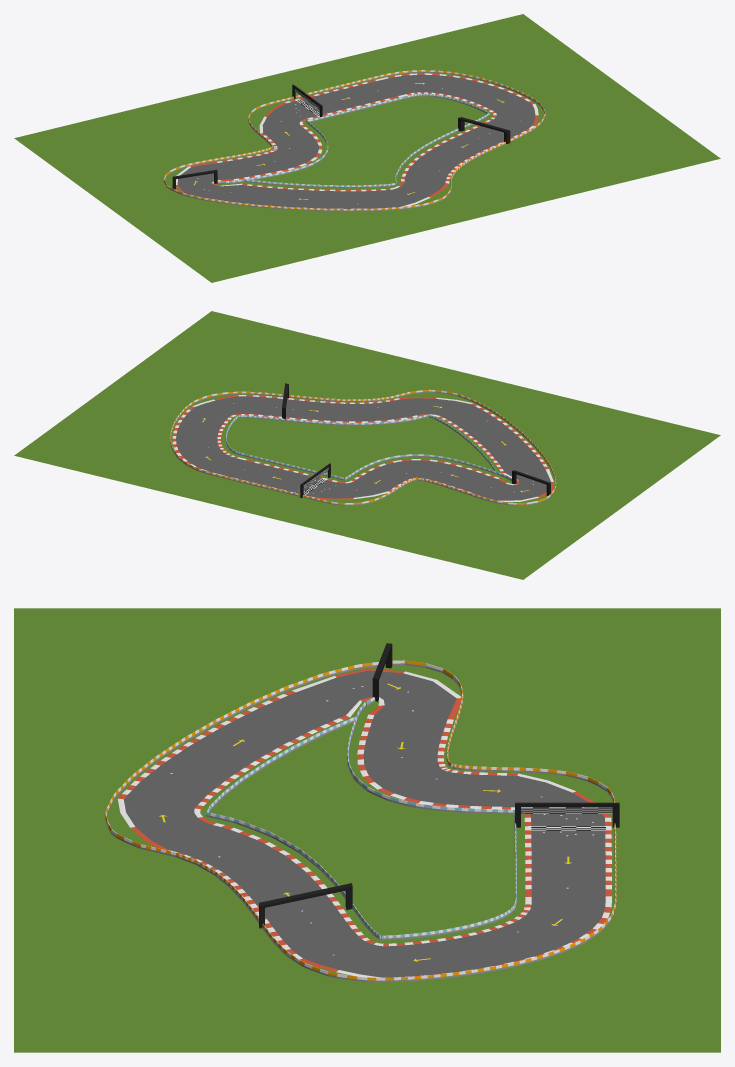
File: basic-track1.glb
3 renders of one model, top to bottom at view 1: azimuth 30°, elevation 25°; view 2: azimuth 150°, elevation 25°; view 3: azimuth 270°, elevation 25°, orthographic. The views are drawn at different scales.
Parts seen in each view (by area): view 1: ground, road, outer-fence, inner-fence; view 2: ground, road, outer-fence, inner-fence; view 3: ground, road, outer-fence, inner-fence, goal, checkpoint1.
Part boxes in pixels (x1,y1,x2,y2): ground: [14, 14, 720, 282]; road: [176, 73, 538, 208]; outer-fence: [163, 70, 545, 211]; inner-fence: [217, 93, 489, 187]; ground: [14, 311, 720, 579]; road: [172, 395, 553, 501]; outer-fence: [170, 389, 556, 505]; inner-fence: [225, 414, 511, 481]; ground: [14, 608, 720, 1052]; road: [118, 668, 611, 977]; outer-fence: [105, 660, 616, 982]; inner-fence: [206, 697, 516, 940]; goal: [515, 802, 619, 827]; checkpoint1: [259, 883, 352, 928].
Bounding box in the file's own units: 1055 × 35.65 × 710.
Materials: 2 (2 with a texture image).
